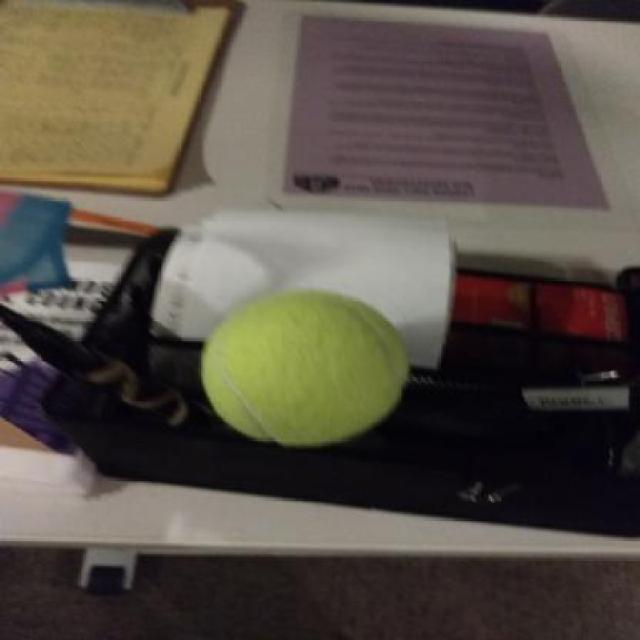Tennis_Ball: (200, 294, 408, 440)
